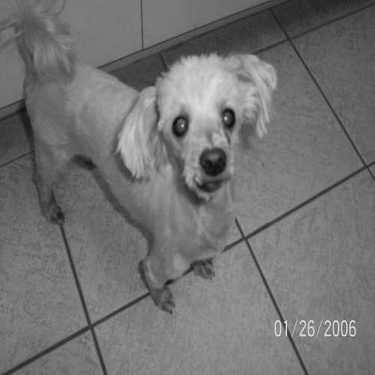dog: (3, 4, 283, 318)
